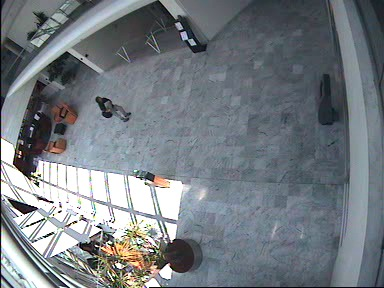person: (96, 96, 129, 124)
